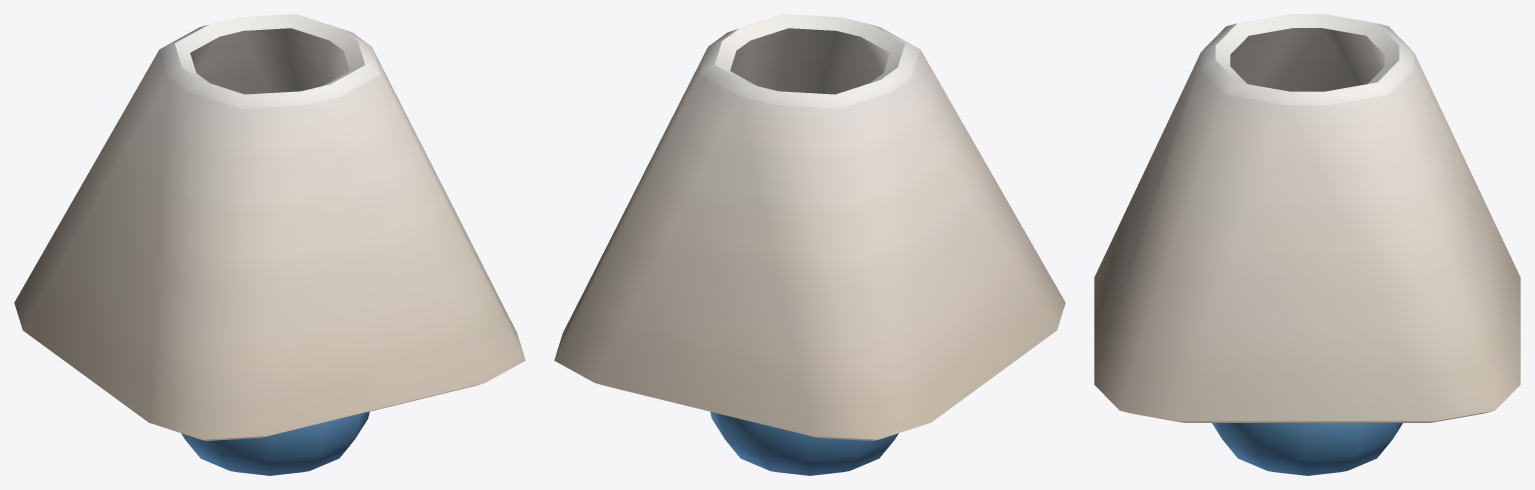
Rendered from lamp_table.glb.
3 renders of one model, left to right at view 1: azimuth 30°, elevation 25°; view 2: azimuth 150°, elevation 25°; view 3: azimuth 270°, elevation 25°, orthographic.
Visible parts, largest first — view 1: lamp_table; view 2: lamp_table; view 3: lamp_table.
Part boxes in pixels (x1=…): lamp_table: x1=14, y1=14, x2=525, y2=475; lamp_table: x1=554, y1=14, x2=1065, y2=475; lamp_table: x1=1094, y1=14, x2=1520, y2=475.
Size of the model in its own units: 1 by 1.02 by 1.
Materials: 1 (1 with a texture image).
